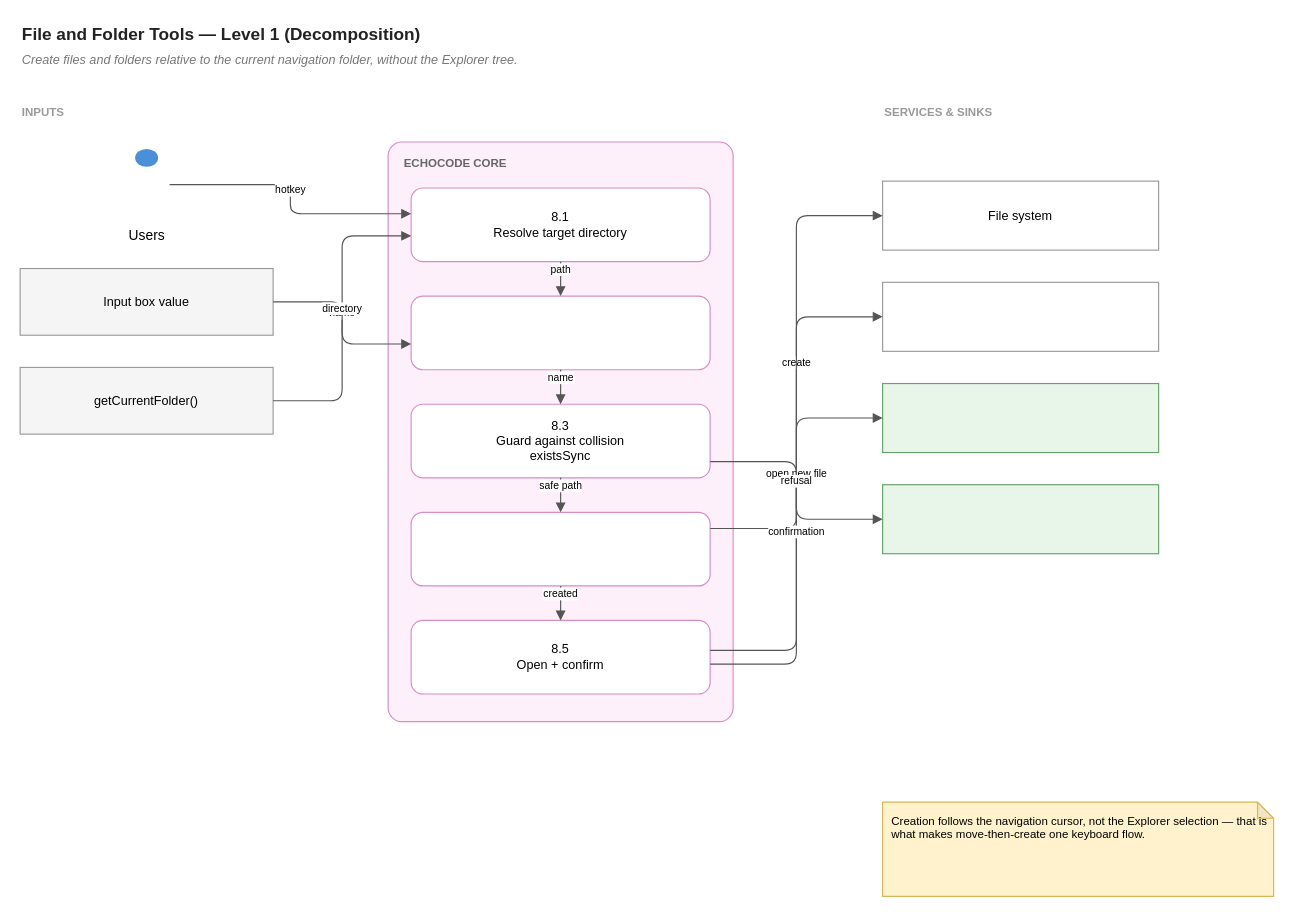
Image size: 1294x917. Some labels were removed from this diagram. The shapes that lost their labels are listed below. From the top down, each one's centre as x and y in pixels, then its label:
At (x=560, y=332): "8.2 Prompt for name showInputBox".
At (x=1020, y=316): "Editor".
At (x=1020, y=417): "Speech Output / TTS".
At (x=1020, y=519): "Speech Output / TTS (already exists)".
At (x=560, y=548): "8.4 Create on disk writeFile / mkdir".
